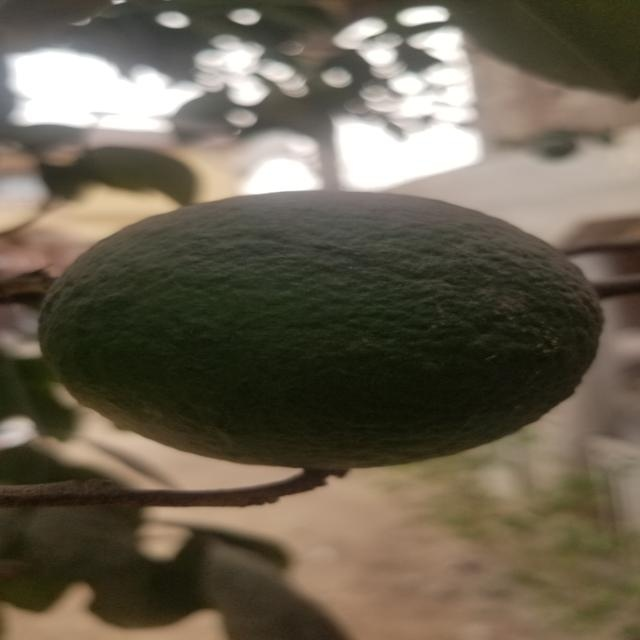agrume: (36, 189, 594, 465)
